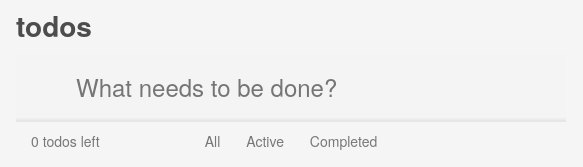
Test: Input form › Form submission › Shows an error message on a failed submission
Type "test" into the field with class "new-todo" at (291, 87), box [16,54,566,120]
Then press Enter
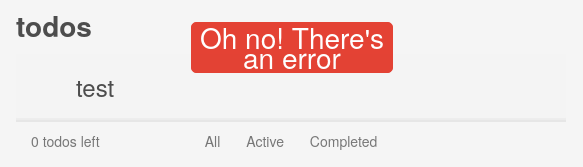
Expected: the text "Oh no! There's an error" is shown, [191,22,393,73]
